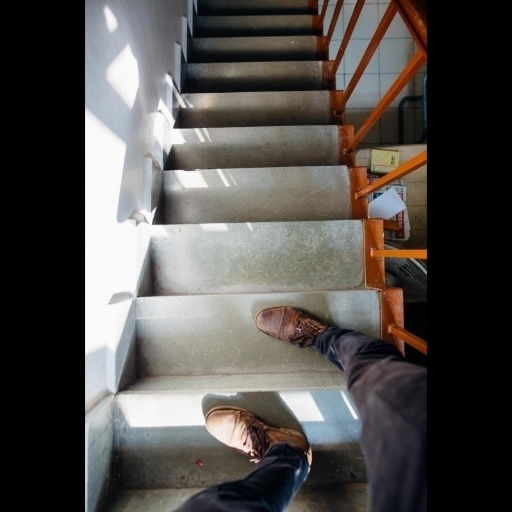Stairs: (86, 0, 403, 512)
